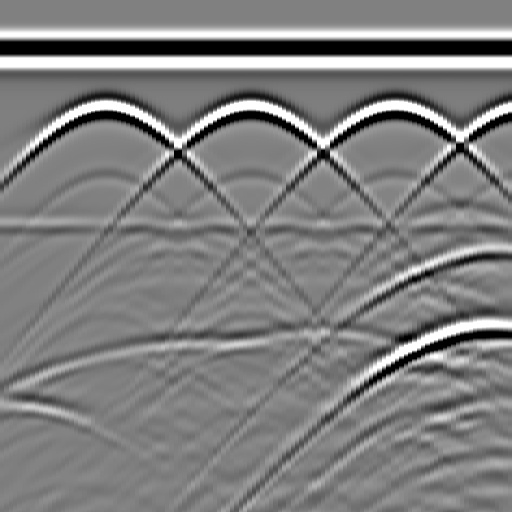grout_surface: (1, 212, 512, 242)
rebar: (84, 89, 124, 129), (228, 89, 268, 129), (372, 89, 412, 129), (502, 89, 512, 129)
rock_surface: (1, 330, 511, 407)
water_void: (464, 227, 512, 267)
